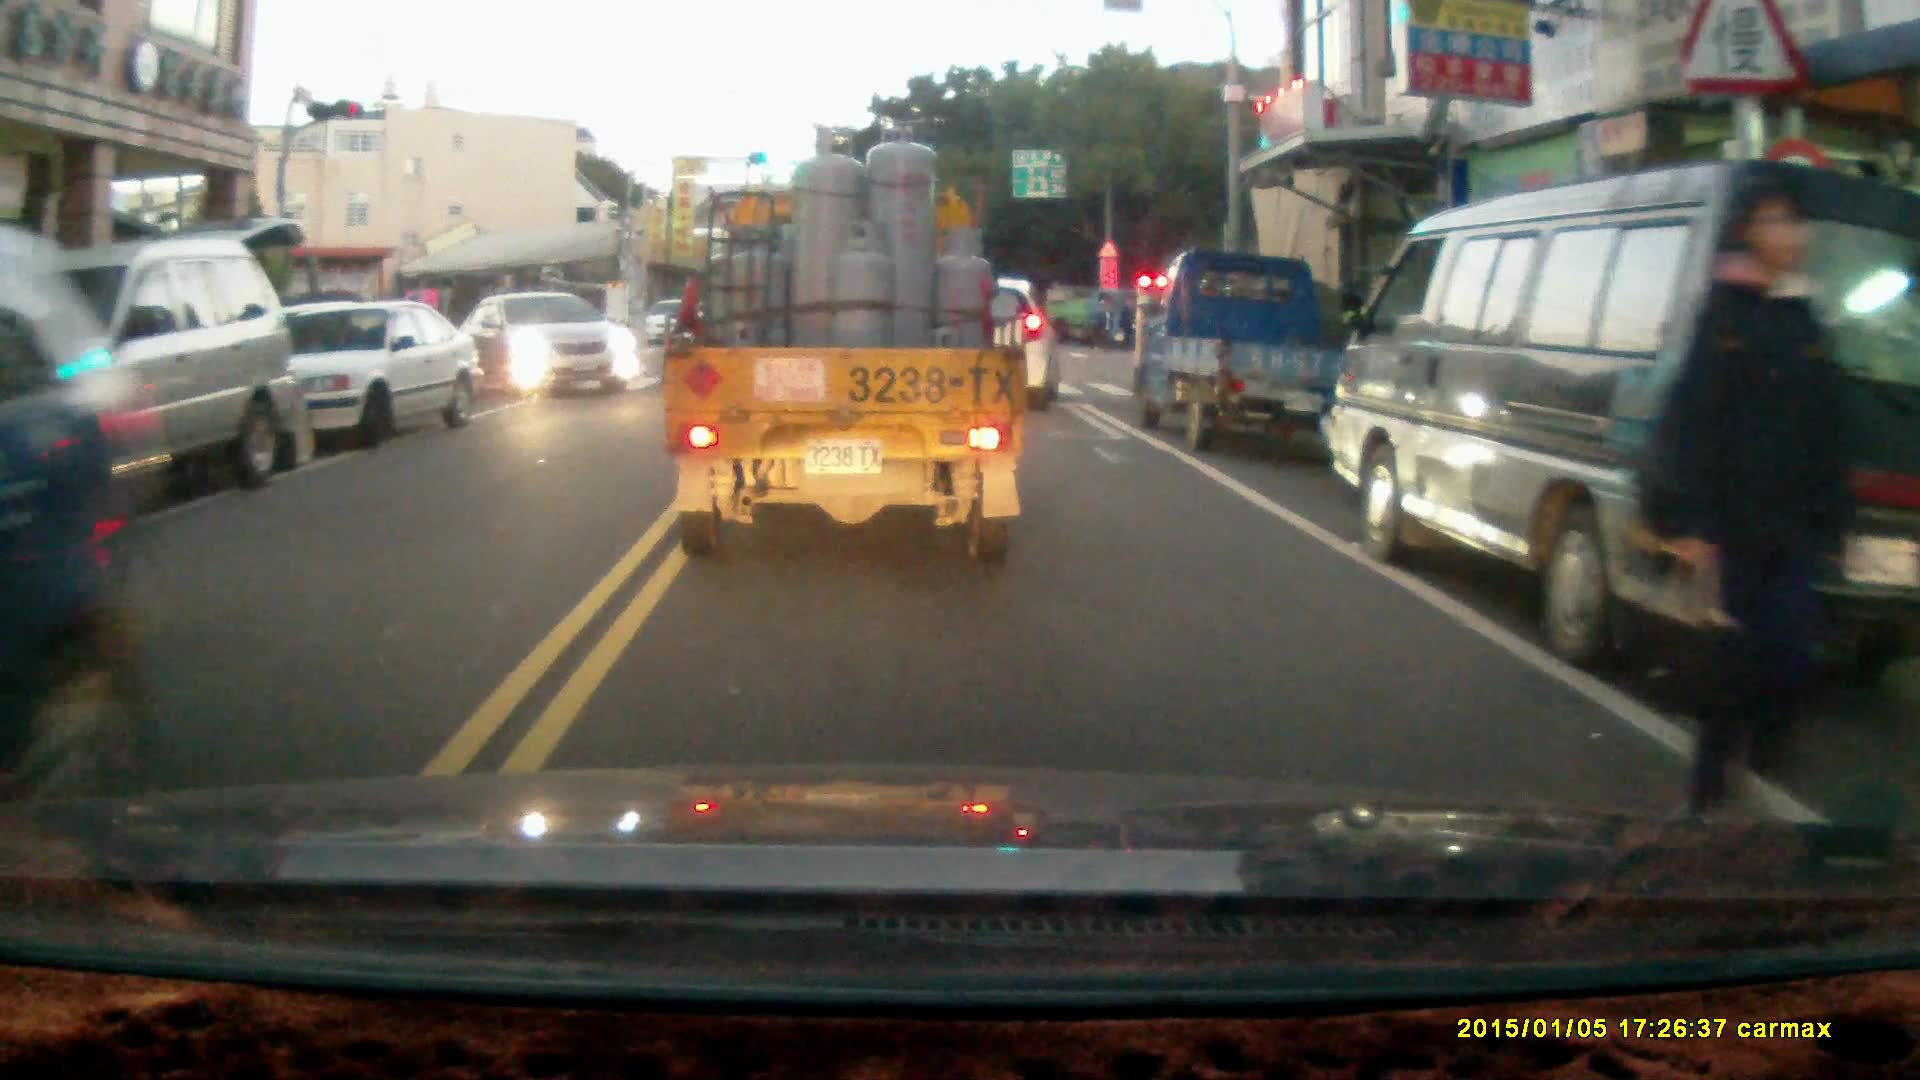pedestrian: (1656, 185, 1858, 832)
vehicle: (1320, 153, 1917, 687), (666, 122, 1035, 566), (1, 307, 164, 853), (2, 236, 290, 519), (1128, 242, 1353, 446), (238, 299, 486, 464), (893, 268, 1062, 409), (466, 289, 641, 399)
